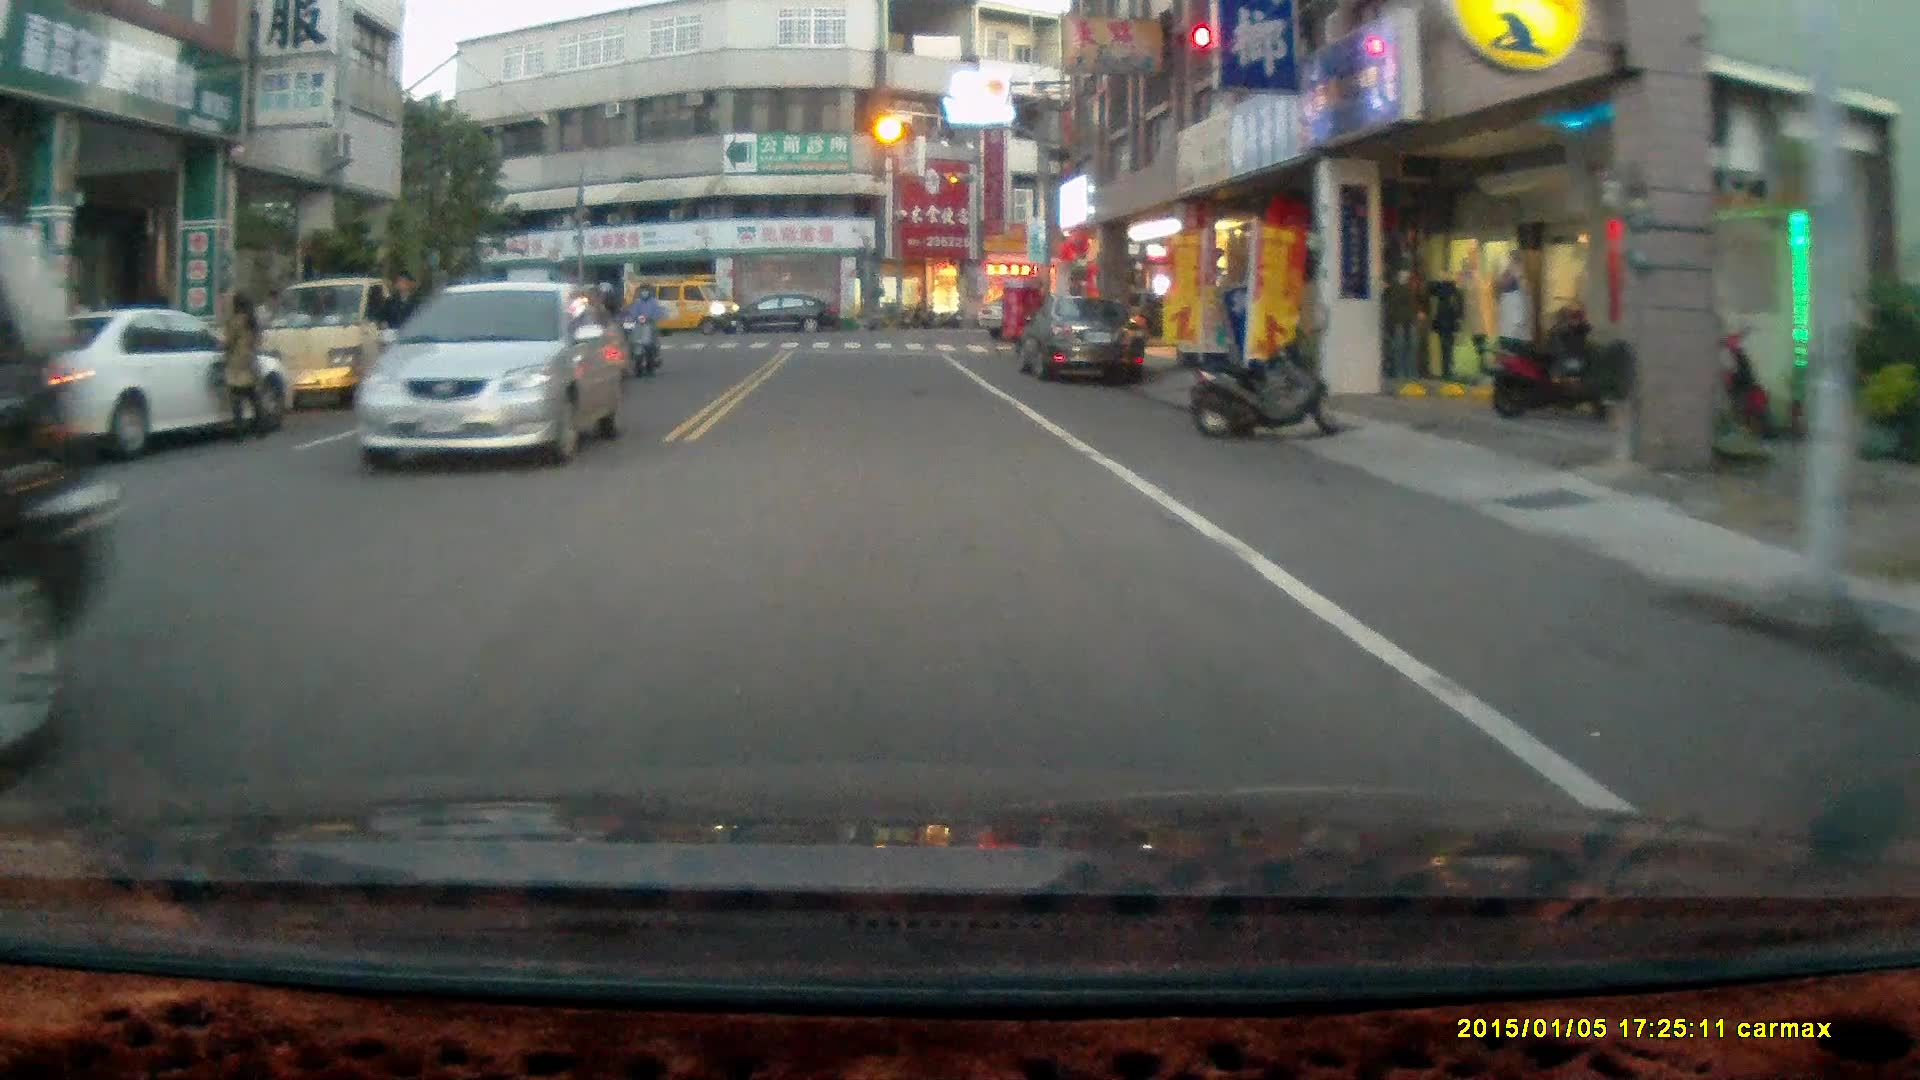pedestrian: (209, 288, 268, 445), (370, 265, 429, 412)
rider: (625, 279, 664, 378)
vehicle: (351, 278, 636, 472), (2, 303, 283, 467), (1014, 288, 1154, 387), (623, 274, 737, 335), (724, 292, 841, 337)
